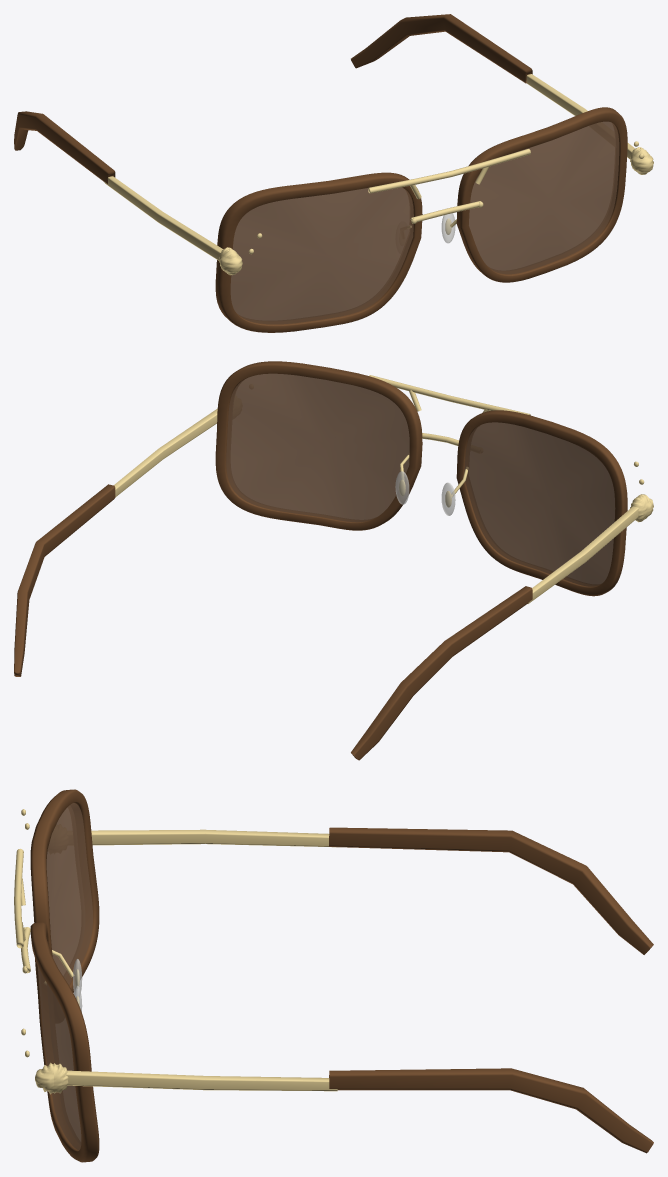
Rendered from oculos-01-imperial-leao.glb.
3 renders of one model, top to bottom at view 1: azimuth 30°, elevation 25°; view 2: azimuth 150°, elevation 25°; view 3: azimuth 270°, elevation 25°, orthographic. The views are drawn at different scales.
Visible parts, largest first — view 1: M01_Lens_L, M01_Lens_R, M01_Rim_L, M01_Rim_R, TempleTip_R, TempleTip_L, TempleMetal_L, M01_TopBrowBar_Gold, TempleMetal_R, M01_LionHead_L, M01_LionHead_R; view 2: M01_Lens_R, M01_Lens_L, M01_Rim_R, M01_Rim_L, TempleTip_L, TempleTip_R, TempleMetal_L, TempleMetal_R, M01_TopBrowBar_Gold; view 3: TempleTip_L, TempleTip_R, M01_Lens_L, M01_Rim_R, M01_Rim_L, TempleMetal_R, TempleMetal_L, M01_Lens_R, M01_LionHead_R, M01_TopBrowBar_Gold.
Boxes of the visible parts, x1=… form: M01_Lens_L: x1=230, y1=187, x2=413, y2=324; M01_Lens_R: x1=469, y1=121, x2=619, y2=274; M01_Rim_L: x1=215, y1=172, x2=422, y2=332; M01_Rim_R: x1=456, y1=107, x2=627, y2=282; TempleTip_R: x1=351, y1=14, x2=532, y2=83; TempleTip_L: x1=14, y1=111, x2=115, y2=183; TempleMetal_L: x1=104, y1=176, x2=223, y2=260; M01_TopBrowBar_Gold: x1=368, y1=149, x2=530, y2=193; TempleMetal_R: x1=526, y1=74, x2=635, y2=159; M01_LionHead_L: x1=219, y1=247, x2=242, y2=275; M01_LionHead_R: x1=630, y1=147, x2=653, y2=174; M01_Lens_R: x1=226, y1=373, x2=409, y2=522; M01_Lens_L: x1=464, y1=422, x2=615, y2=586; M01_Rim_R: x1=215, y1=361, x2=422, y2=530; M01_Rim_L: x1=456, y1=410, x2=627, y2=596; TempleTip_L: x1=351, y1=586, x2=532, y2=760; TempleTip_R: x1=14, y1=484, x2=115, y2=676; TempleMetal_L: x1=527, y1=506, x2=638, y2=604; TempleMetal_R: x1=114, y1=408, x2=217, y2=497; M01_TopBrowBar_Gold: x1=369, y1=375, x2=530, y2=415; TempleTip_L: x1=329, y1=827, x2=653, y2=954; TempleTip_R: x1=329, y1=1068, x2=653, y2=1153; M01_Lens_L: x1=46, y1=803, x2=92, y2=985; M01_Rim_R: x1=30, y1=922, x2=99, y2=1162; M01_Rim_L: x1=30, y1=789, x2=99, y2=992; TempleMetal_R: x1=66, y1=1070, x2=337, y2=1091; TempleMetal_L: x1=91, y1=829, x2=335, y2=847; M01_Lens_R: x1=37, y1=966, x2=81, y2=1150; M01_LionHead_R: x1=35, y1=1062, x2=68, y2=1094; M01_TopBrowBar_Gold: x1=14, y1=848, x2=23, y2=948.
Size of the model in its own units: 0.14 by 0.0468 by 0.151.
